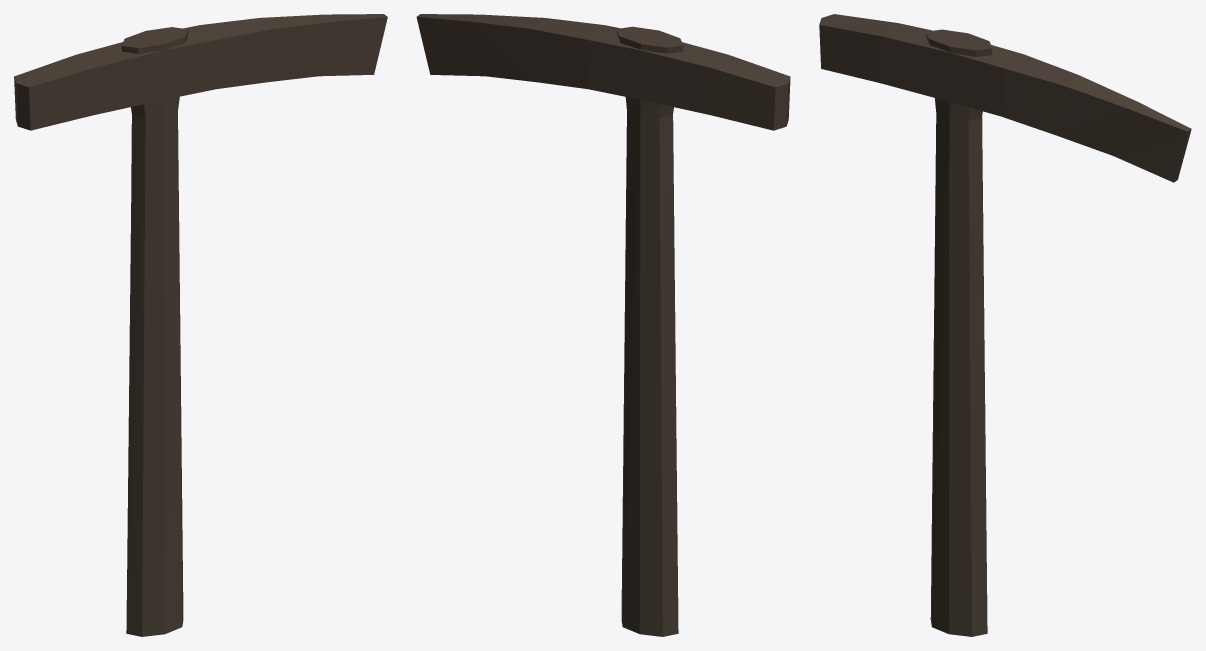
The model's file is chopper.obj.
The picture shows the model from 3 angles, left to right: view 1: azimuth 30°, elevation 25°; view 2: azimuth 150°, elevation 25°; view 3: azimuth 330°, elevation 25°; orthographic projection.
Parts seen in each view (by area): view 1: product-e5c7d2a8-13a9-4b0e-bce8-fc2a2d7952b7-body; view 2: product-e5c7d2a8-13a9-4b0e-bce8-fc2a2d7952b7-body; view 3: product-e5c7d2a8-13a9-4b0e-bce8-fc2a2d7952b7-body.
Boxes of the visible parts, left/top/right/bottom form: product-e5c7d2a8-13a9-4b0e-bce8-fc2a2d7952b7-body: left=14, top=14, right=387, bottom=636; product-e5c7d2a8-13a9-4b0e-bce8-fc2a2d7952b7-body: left=416, top=14, right=790, bottom=636; product-e5c7d2a8-13a9-4b0e-bce8-fc2a2d7952b7-body: left=819, top=14, right=1191, bottom=636.
Size of the model in its own units: 0.2685 by 0.4088 by 0.0257.
